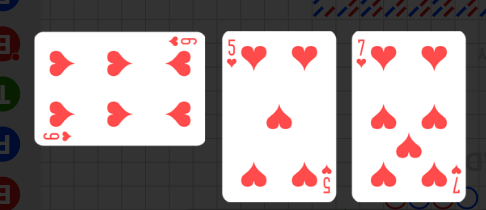5H: (226, 37, 238, 69)
6H: (42, 129, 73, 142)
7H: (449, 163, 462, 195)
